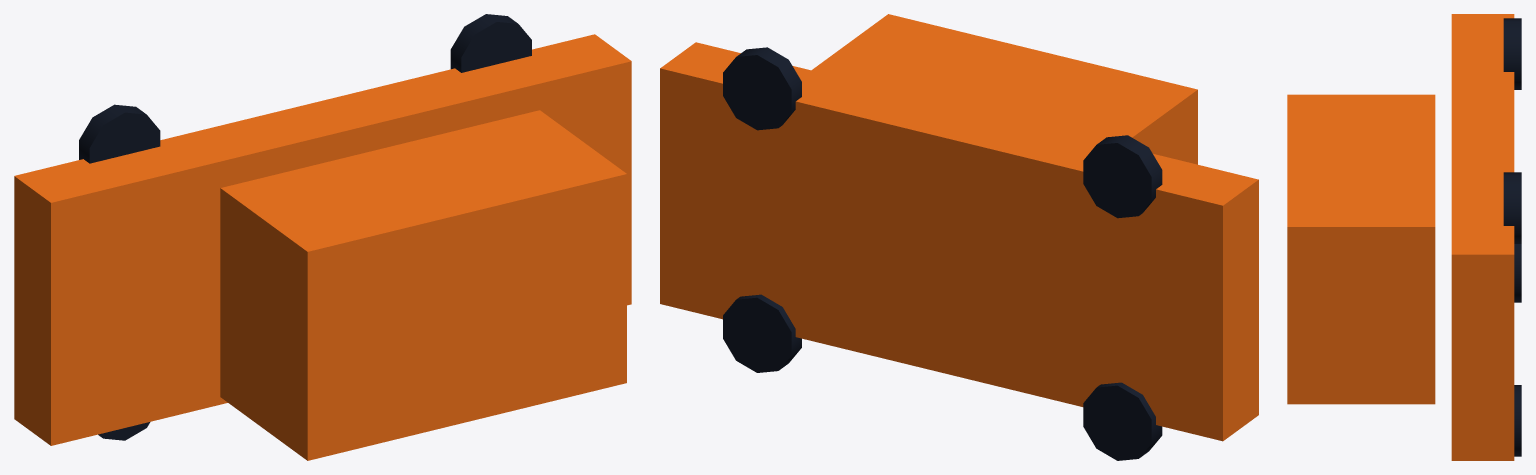
File: vehicle.van.glb
3 views of the same model, side by side, from view 1: azimuth 30°, elevation 25°; view 2: azimuth 150°, elevation 25°; view 3: azimuth 270°, elevation 25° (orthographic). The views are drawn at different scales.
Visible parts, largest first — view 1: vehicle.van; view 2: vehicle.van; view 3: vehicle.van.
Boxes of the visible parts, bbox=[...] form: vehicle.van: bbox=[14, 14, 631, 460]; vehicle.van: bbox=[660, 14, 1258, 460]; vehicle.van: bbox=[1287, 14, 1521, 460].
Bounding box in the file's own units: 5 × 2.7 × 2.06.
